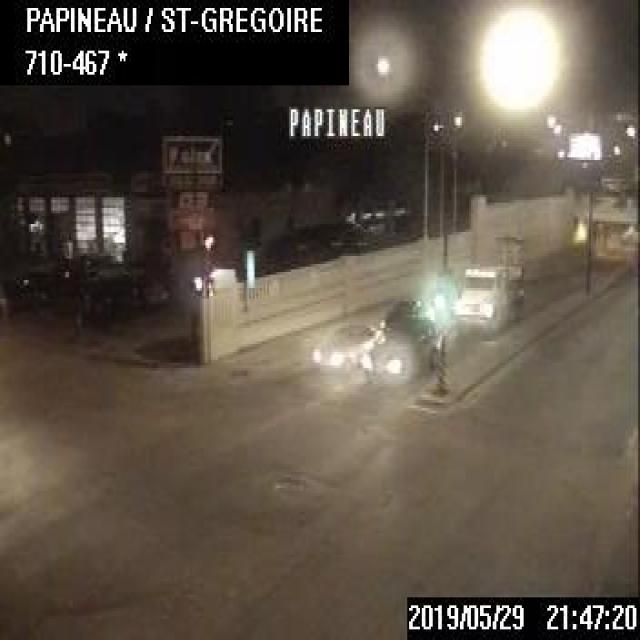vehicle: (444, 259, 521, 333), (354, 326, 437, 382), (307, 318, 380, 374)
